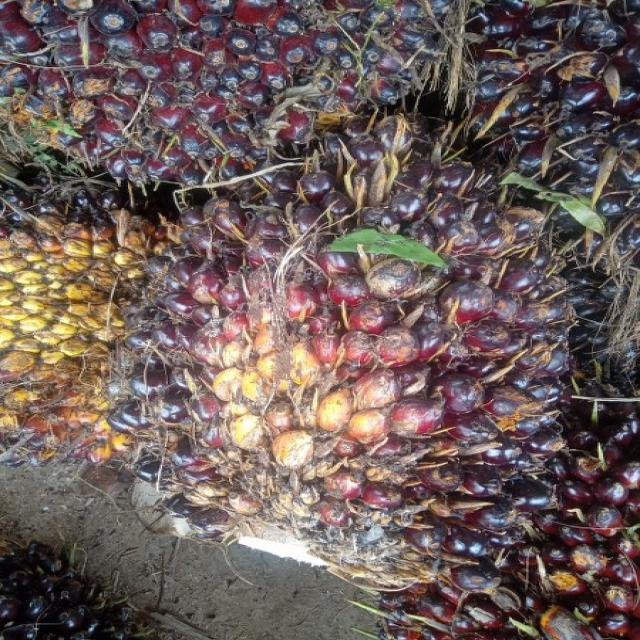fraksi 00: (114, 117, 572, 564)
